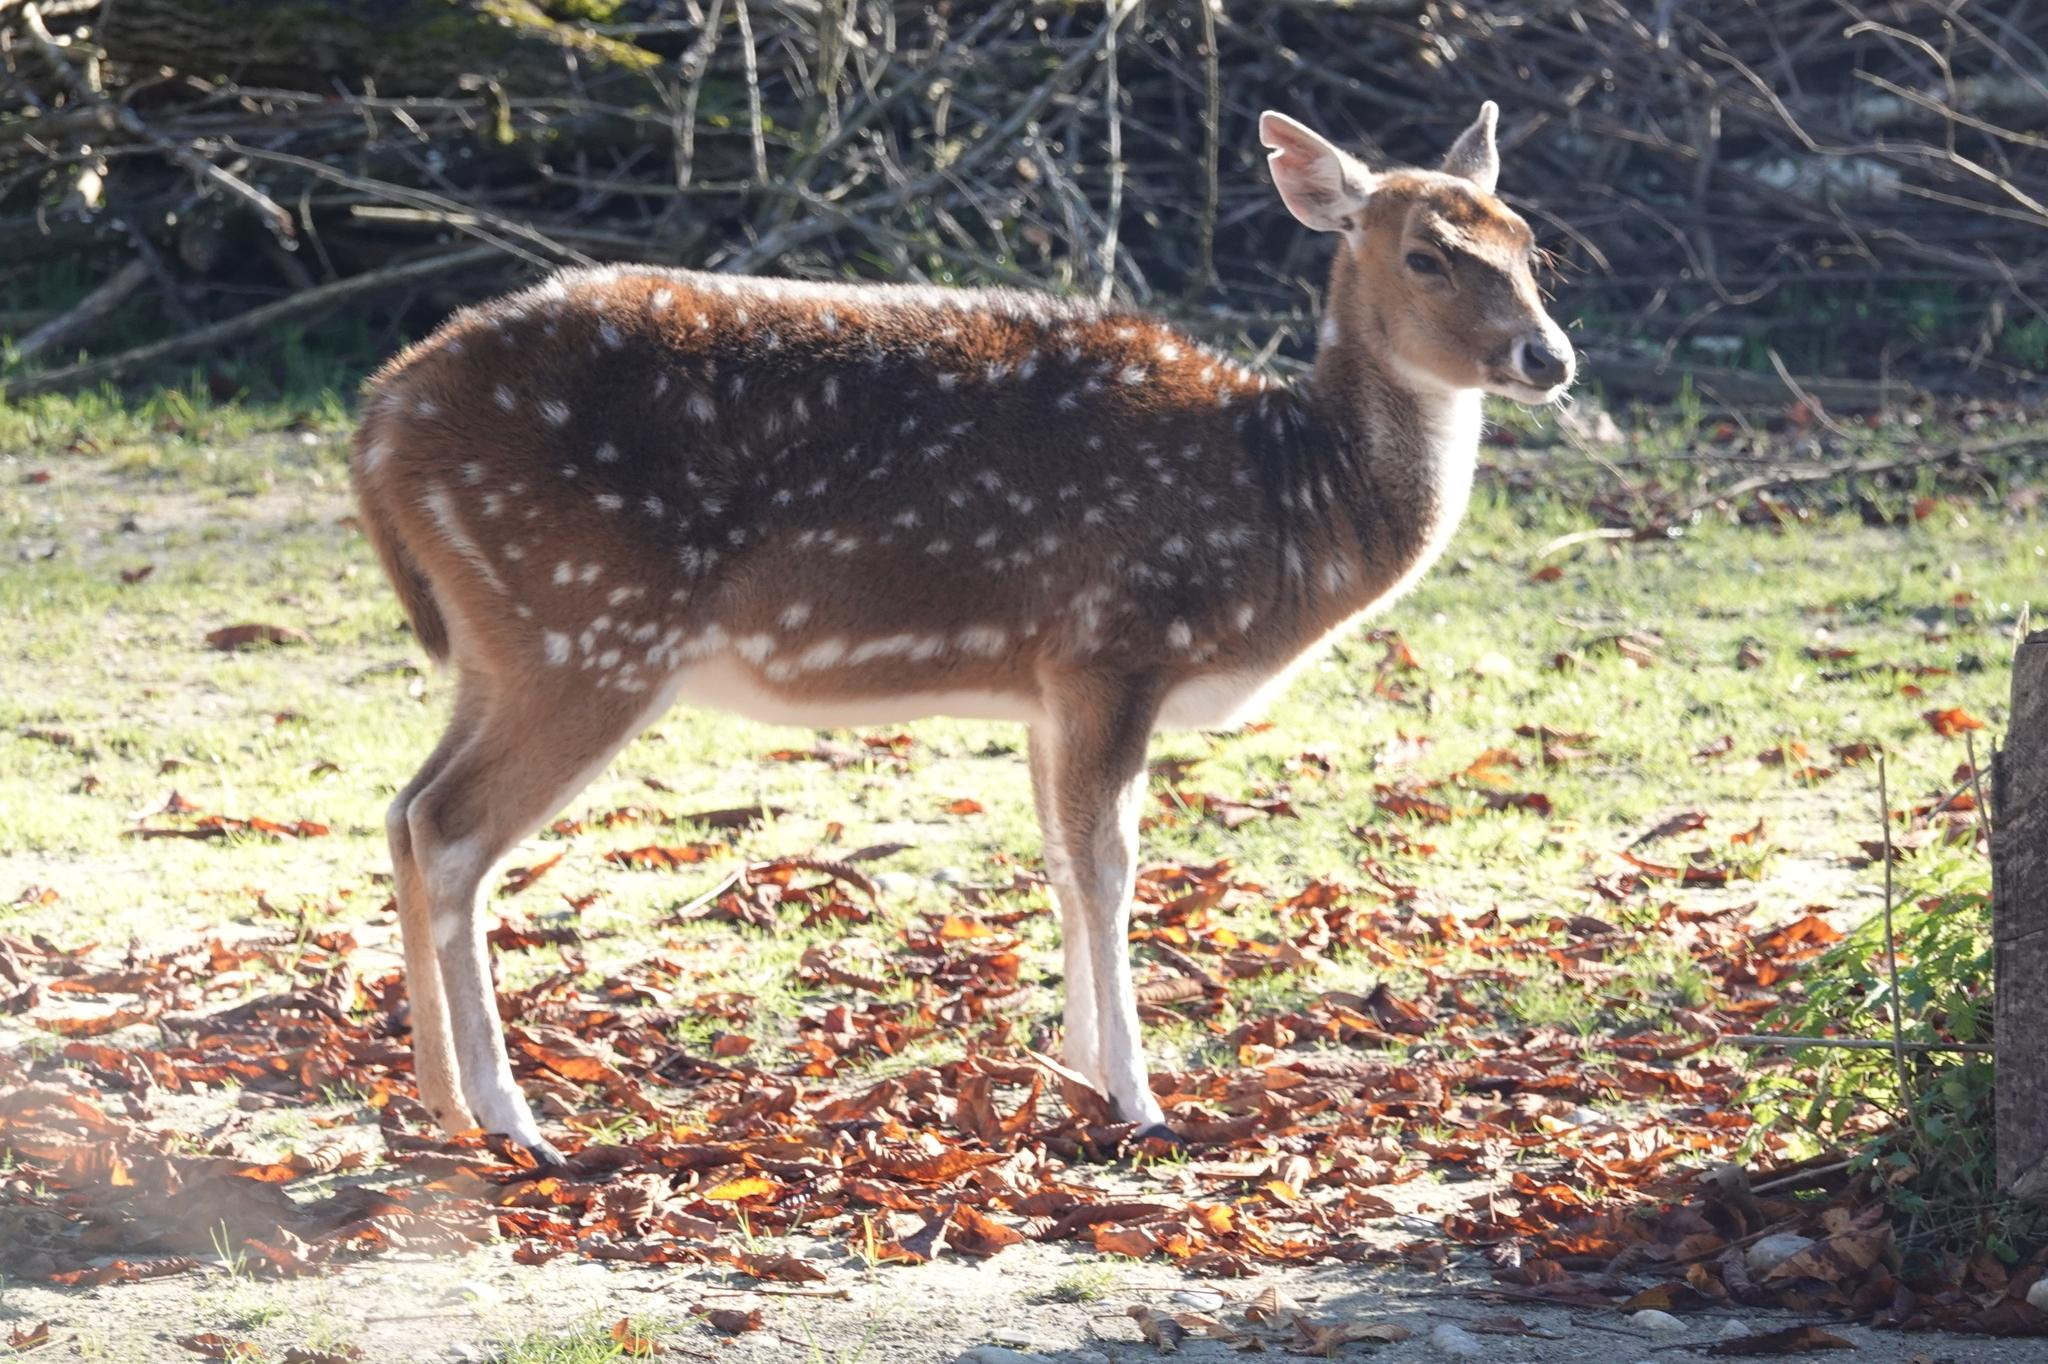Deer: (351, 100, 1576, 1160)
